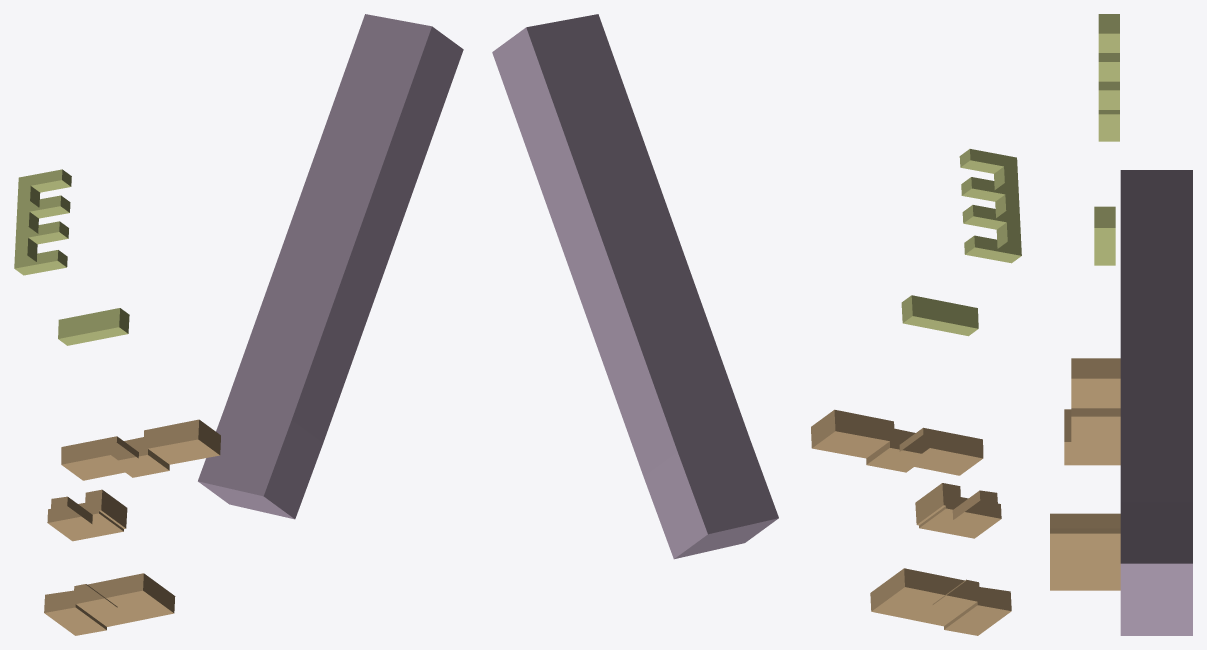
The picture shows the model from 3 angles, left to right: view 1: azimuth 30°, elevation 25°; view 2: azimuth 150°, elevation 25°; view 3: azimuth 270°, elevation 25°; orthographic projection. The views are drawn at different scales.
Visible parts, largest first — view 1: 0_0_3_1_2_0; view 2: 0_0_3_1_2_0; view 3: 0_0_3_1_2_0.
Boxes of the visible parts, <box> form: 0_0_3_1_2_0: <box>14,14,463,635</box>; 0_0_3_1_2_0: <box>492,14,1021,635</box>; 0_0_3_1_2_0: <box>1050,14,1192,635</box>.
Size of the model in its own units: 249 by 260 by 59.85.
